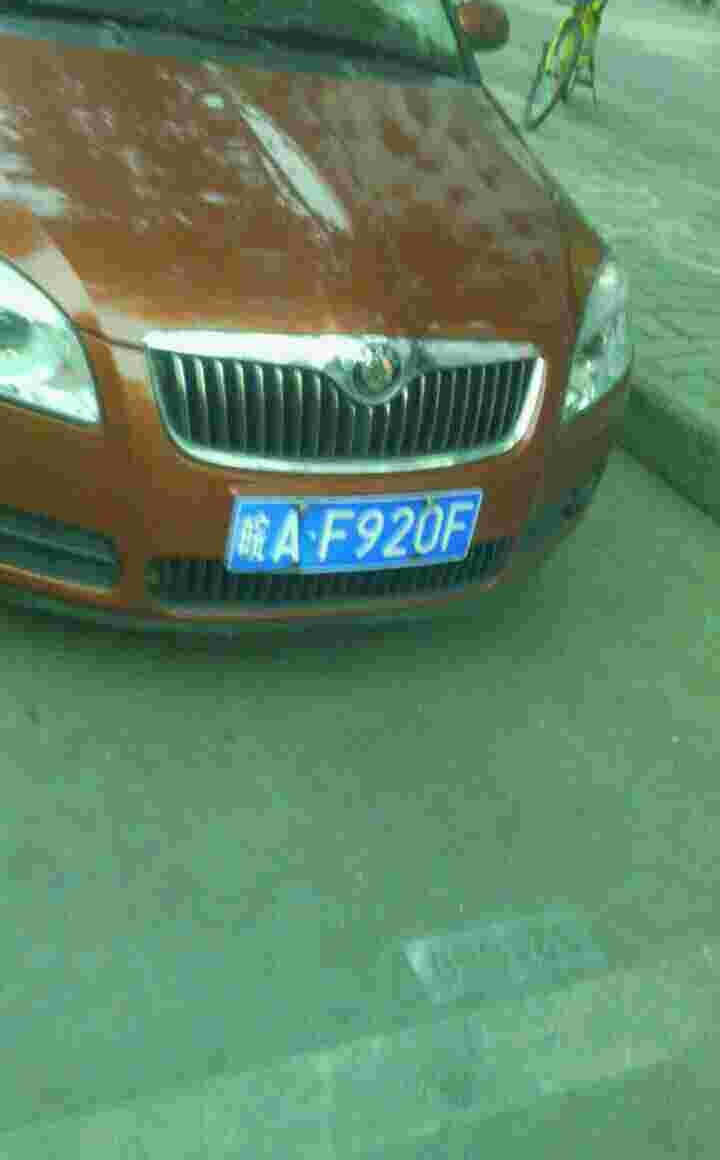license_plate: (230, 492, 485, 581)
